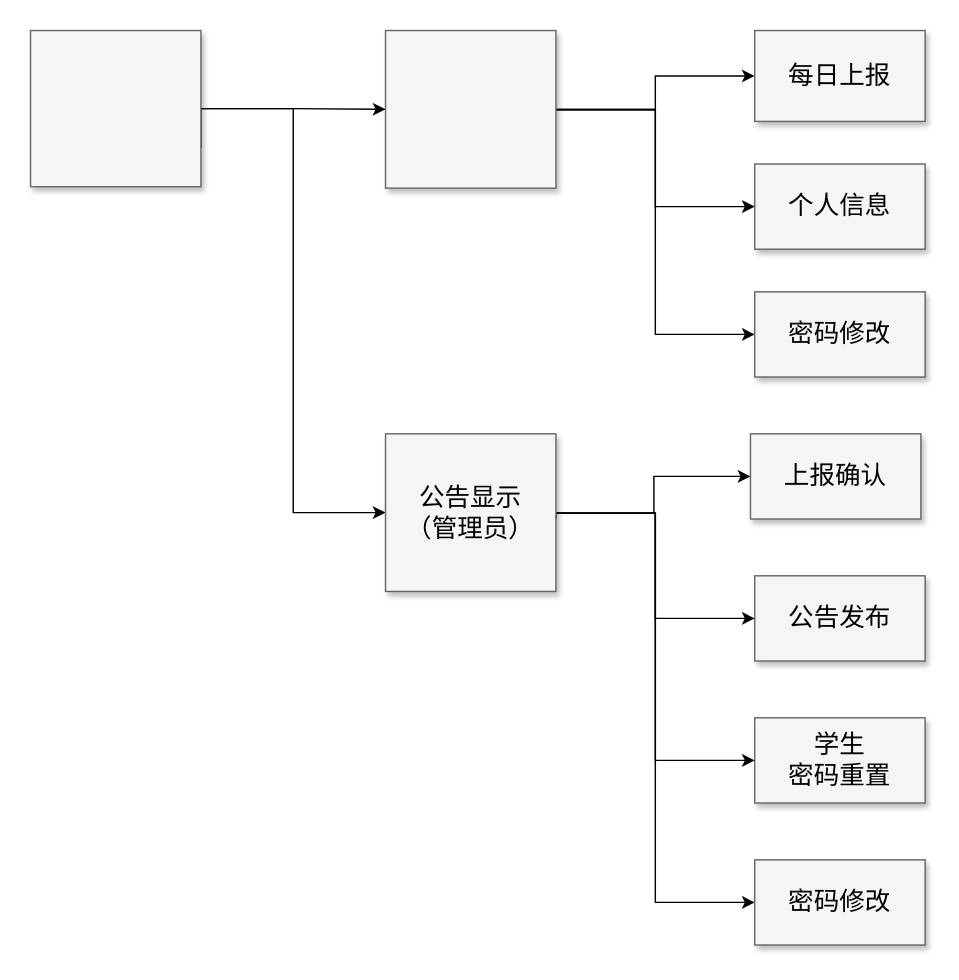
Image size: 959x980. Some labels were removed from this diagram. The shapes that lost their labels are listed below. From the top down, each one's centre as x and y in pixels, then its label:
At point 116,110: "登录".
At point 471,110: "公告显示 （学生）".
